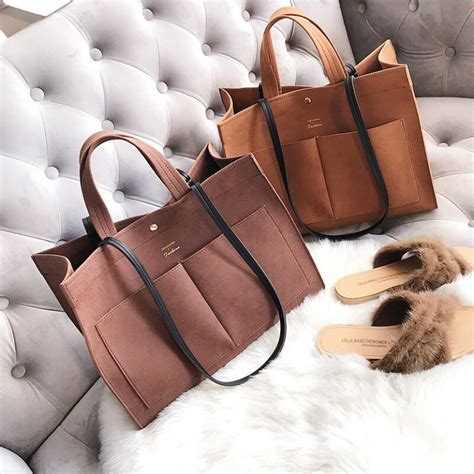gamuza: (31, 11, 438, 431)
